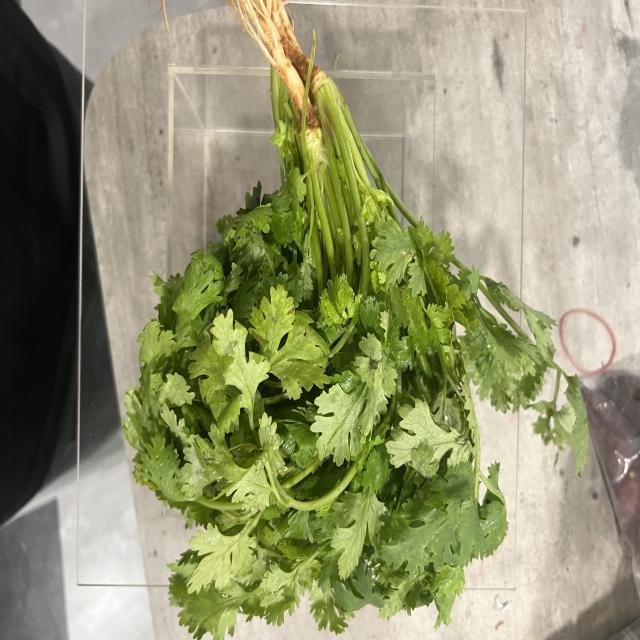cilantro: (129, 0, 554, 621)
